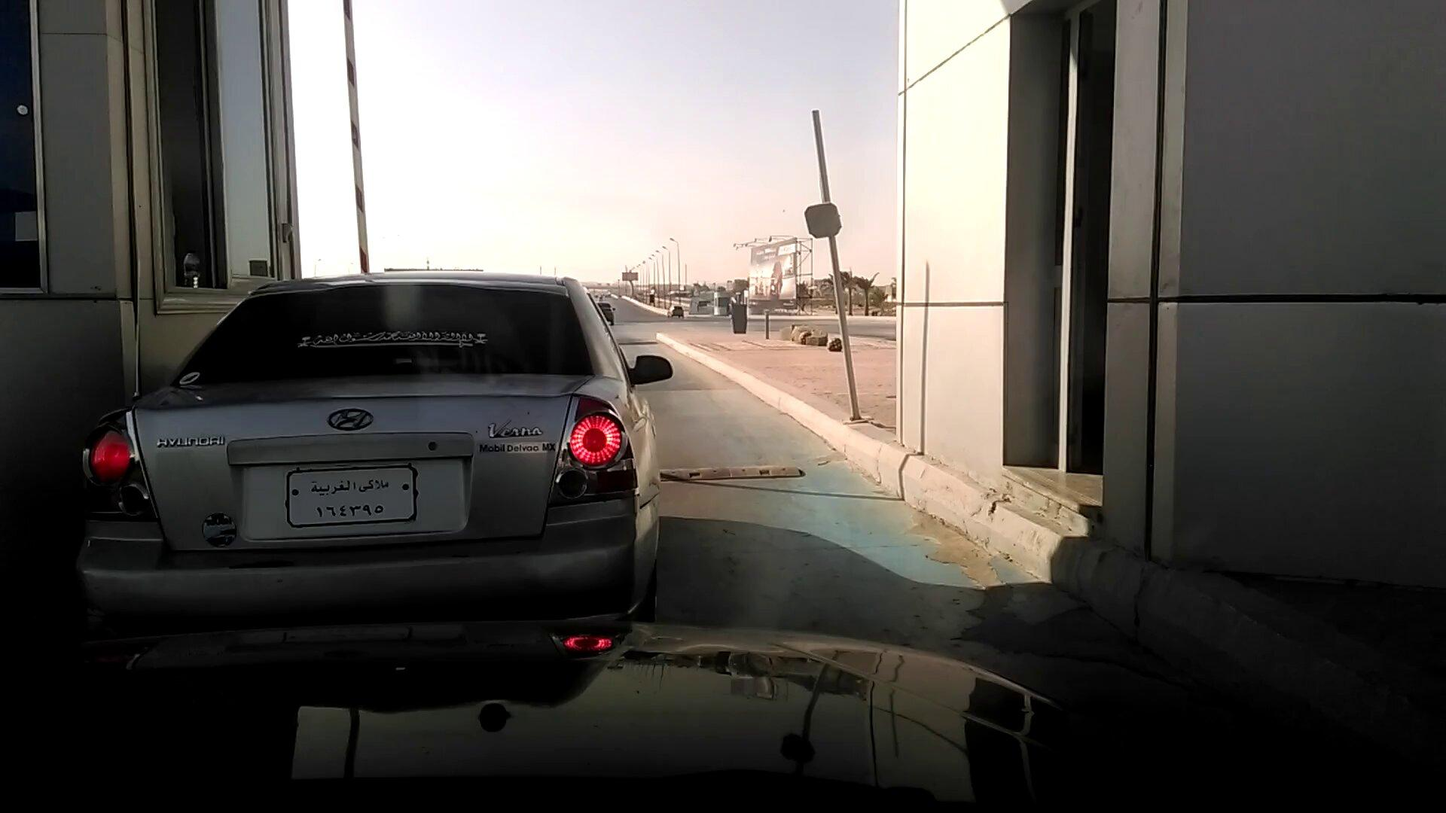Bump: (659, 457, 808, 486)
